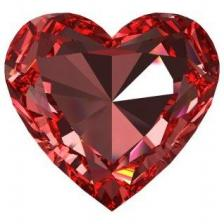red: (5, 13, 220, 211)
